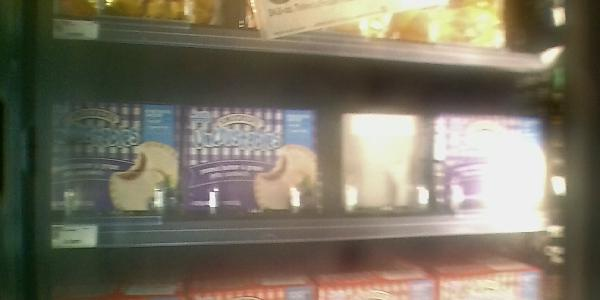icecream: (181, 106, 324, 217), (52, 102, 179, 216), (436, 115, 546, 208)
